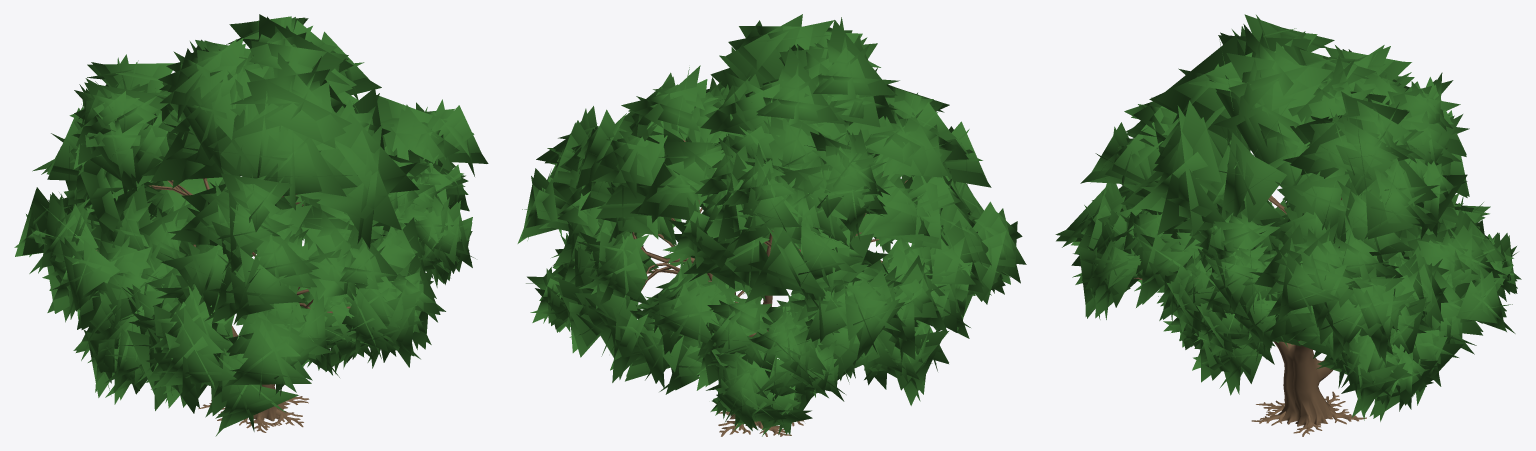
The model's file is Camphor_A.obj.
The picture shows the model from 3 angles, left to right: view 1: azimuth 30°, elevation 25°; view 2: azimuth 150°, elevation 25°; view 3: azimuth 270°, elevation 25°; orthographic projection. The views are drawn at different scales.
Visible parts, largest first — view 1: Leaves, Trunk; view 2: Leaves, Trunk; view 3: Leaves, Trunk.
Part boxes in pixels (box(x1,y1,x2,y2)): Leaves: box(14, 14, 488, 436); Trunk: box(96, 178, 350, 432); Leaves: box(517, 14, 1026, 436); Trunk: box(632, 139, 907, 436); Leaves: box(1055, 14, 1521, 421); Trunk: box(1134, 195, 1366, 436).
Size of the model in its own units: 85.31 by 79.81 by 88.97.
